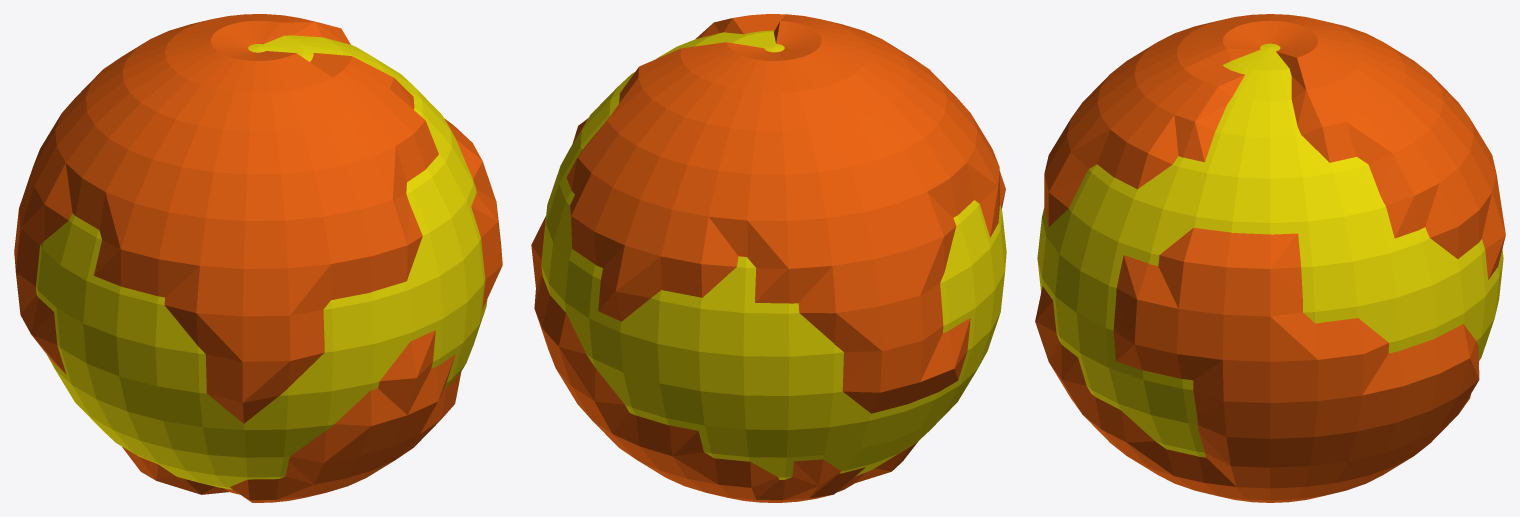
The model's file is Planet1.fbx.
The picture shows the model from 3 angles, left to right: view 1: azimuth 30°, elevation 25°; view 2: azimuth 150°, elevation 25°; view 3: azimuth 270°, elevation 25°; orthographic projection.
Visible parts, largest first — view 1: Sphere.001, Sphere; view 2: Sphere.001, Sphere; view 3: Sphere.001, Sphere.
Boxes of the visible parts, <box> form: Sphere.001: <box>14,14,502,502</box>; Sphere: <box>36,35,487,489</box>; Sphere.001: <box>531,14,1005,502</box>; Sphere: <box>541,30,1006,479</box>; Sphere.001: <box>1035,14,1505,502</box>; Sphere: <box>1037,43,1503,457</box>.
Size of the model in its own units: 206 by 208 by 202.
